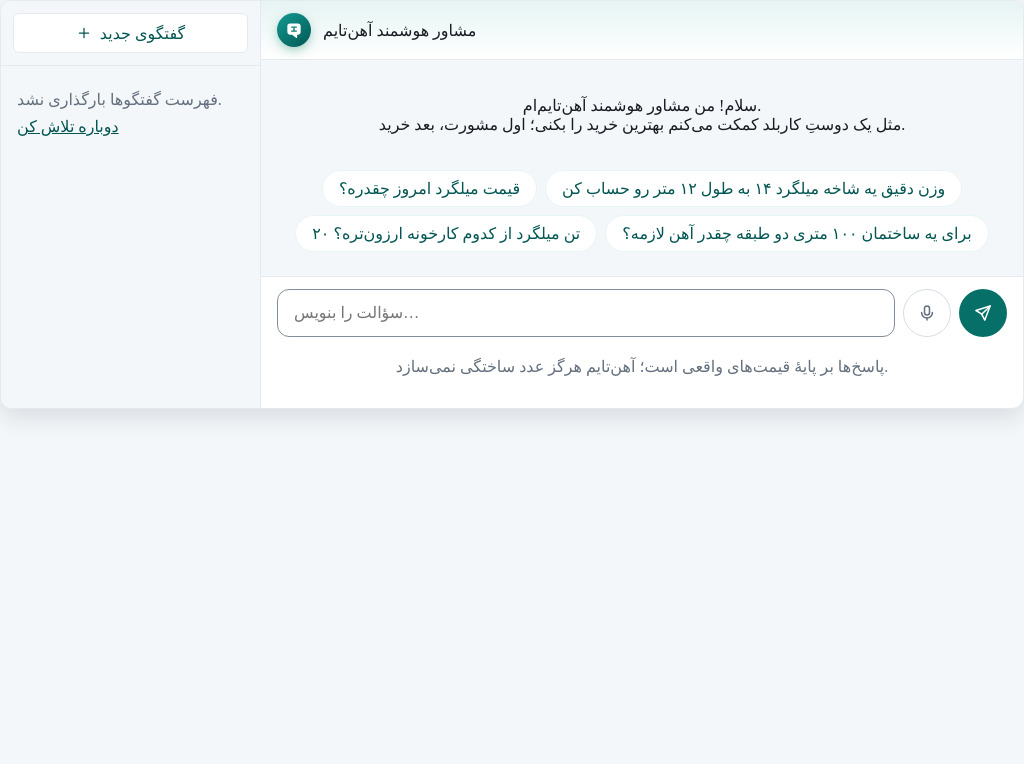
Test: AdvisorChat — proforma confirmation card › lists what the advisor collected and files it only when the visitor confirms
Type "پیش‌فاکتور می‌خوام" into the text box named "پیام به مشاور هوشمند".
click(586, 313); type("پیش‌فاکتور می‌خوام")  # box [277,289,895,337]
Then press Enter
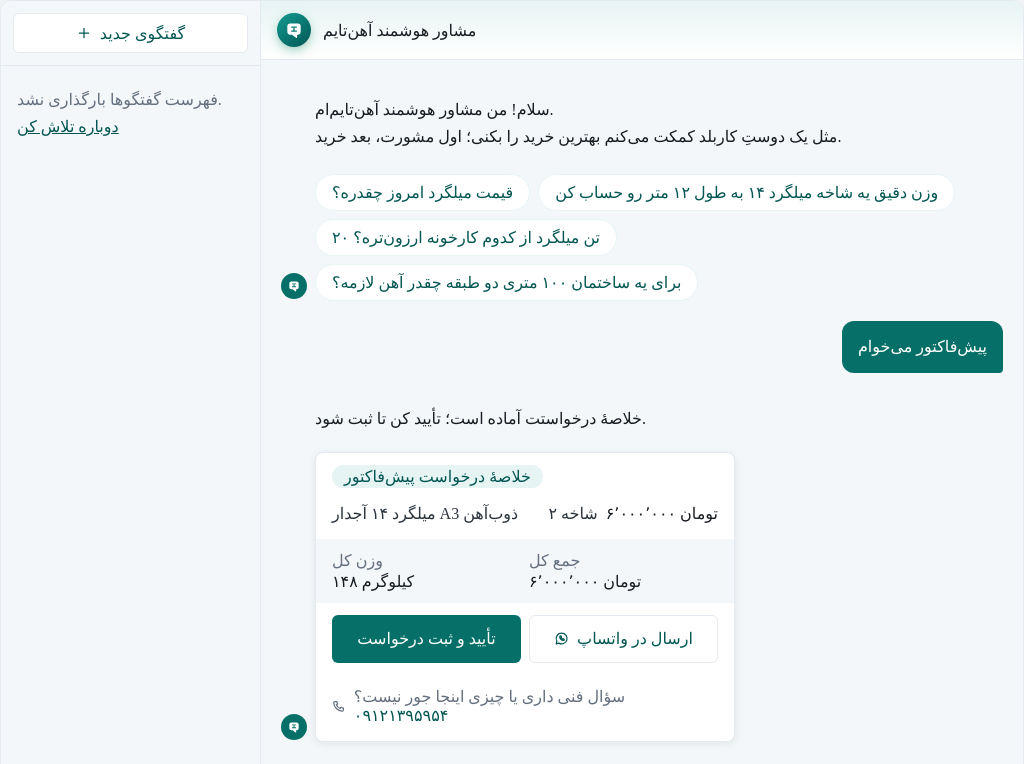
Check: the text "خلاصهٔ درخواست پیش‌فاکتور" is shown, box [332,465,543,488]
Check: the text "میلگرد ۱۴ آجدار A3 ذوب‌آهن" is shown, box [332,504,536,523]
Check: the text "وزن کل" is shown, box [332,552,383,569]
Click the button "تأیید و ثبت درخواست".
click(426, 639)  # box [332,615,521,663]
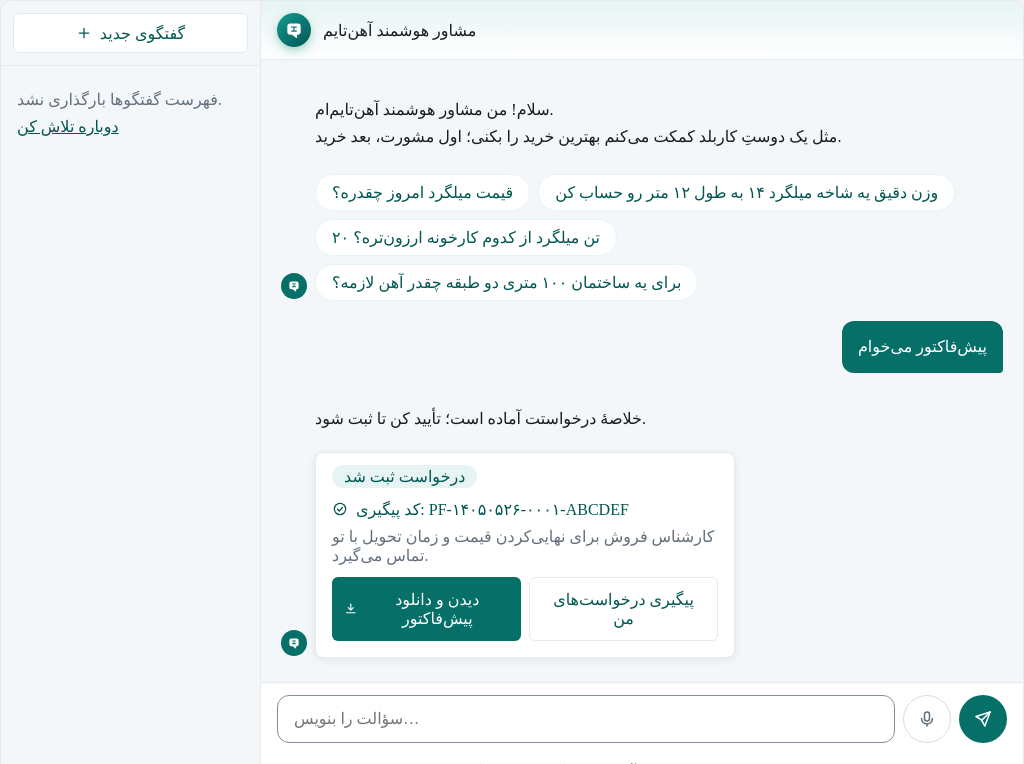
Check: the text "کد پیگیری: PF-۱۴۰۵۰۵۲۶-۰۰۰۱-ABCDEF" is shown, box [356,500,629,519]
Check: the button "تأیید و ثبت درخواست" is gone
